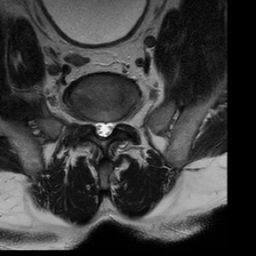CCS_stenosis: (100, 114, 107, 145)
LFS_severe_stenosis: (115, 110, 124, 133)
LLS_normal: (107, 114, 115, 141)
RFS_stenosis: (84, 110, 92, 133)
RLS_normal: (92, 114, 100, 138)
